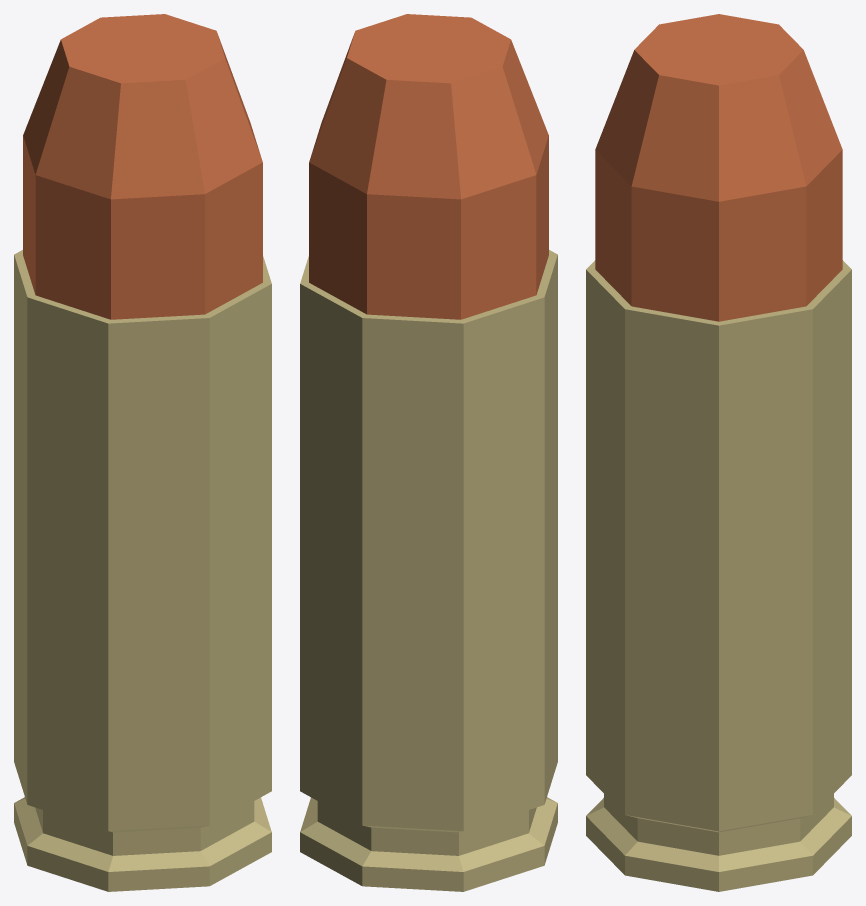
The model's file is CRT-45ACP.fbx.
3 renders of one model, left to right at view 1: azimuth 30°, elevation 25°; view 2: azimuth 150°, elevation 25°; view 3: azimuth 270°, elevation 25°, orthographic.
Parts seen in each view (by area): view 1: Cylinder.005; view 2: Cylinder.005; view 3: Cylinder.005.
Boxes of the visible parts, left/top/right/bottom form: Cylinder.005: left=14, top=14, right=271, bottom=891; Cylinder.005: left=300, top=14, right=557, bottom=891; Cylinder.005: left=586, top=14, right=851, bottom=891.
Size of the model in its own units: 25.74 by 83.95 by 25.74.
